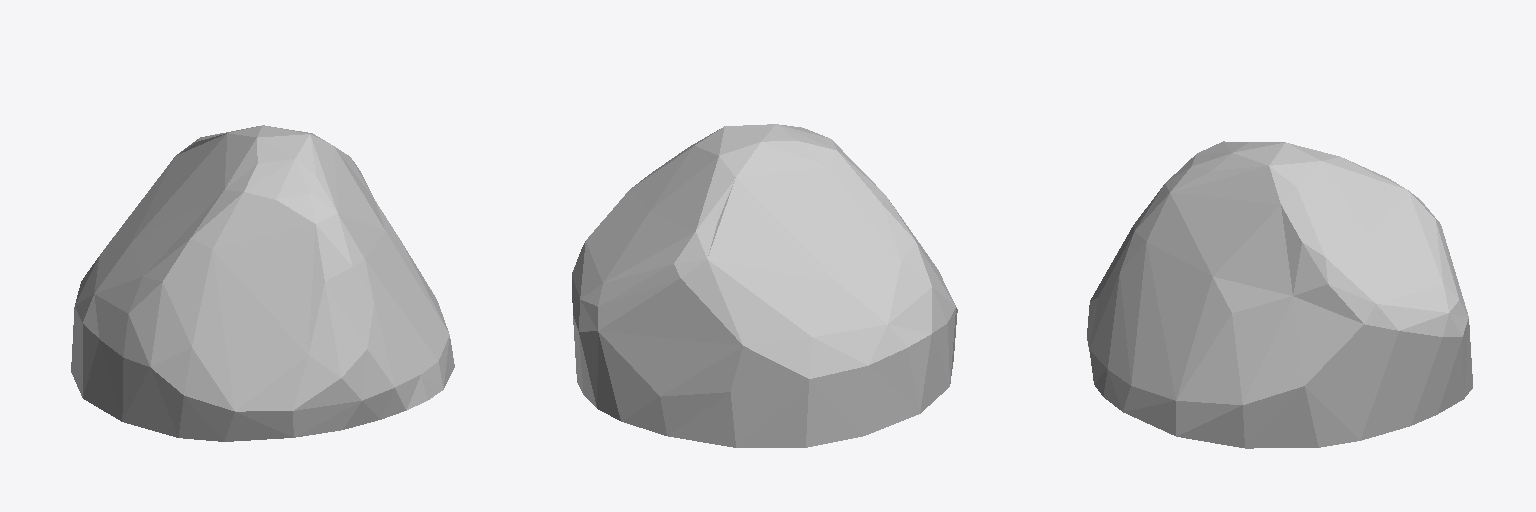
Rendered from stone31.obj.
The picture shows the model from 3 angles: view 1: azimuth 30°, elevation 25°; view 2: azimuth 150°, elevation 25°; view 3: azimuth 270°, elevation 25°; orthographic projection.
Visible parts, largest first — view 1: stone3_Group1.002; view 2: stone3_Group1.002; view 3: stone3_Group1.002.
Part boxes in pixels (left/top/right/bottom): stone3_Group1.002: left=71, top=125, right=454, bottom=441; stone3_Group1.002: left=572, top=124, right=957, bottom=447; stone3_Group1.002: left=1087, top=141, right=1472, bottom=448.
Size of the model in its own units: 2.69 by 1.83 by 2.77.